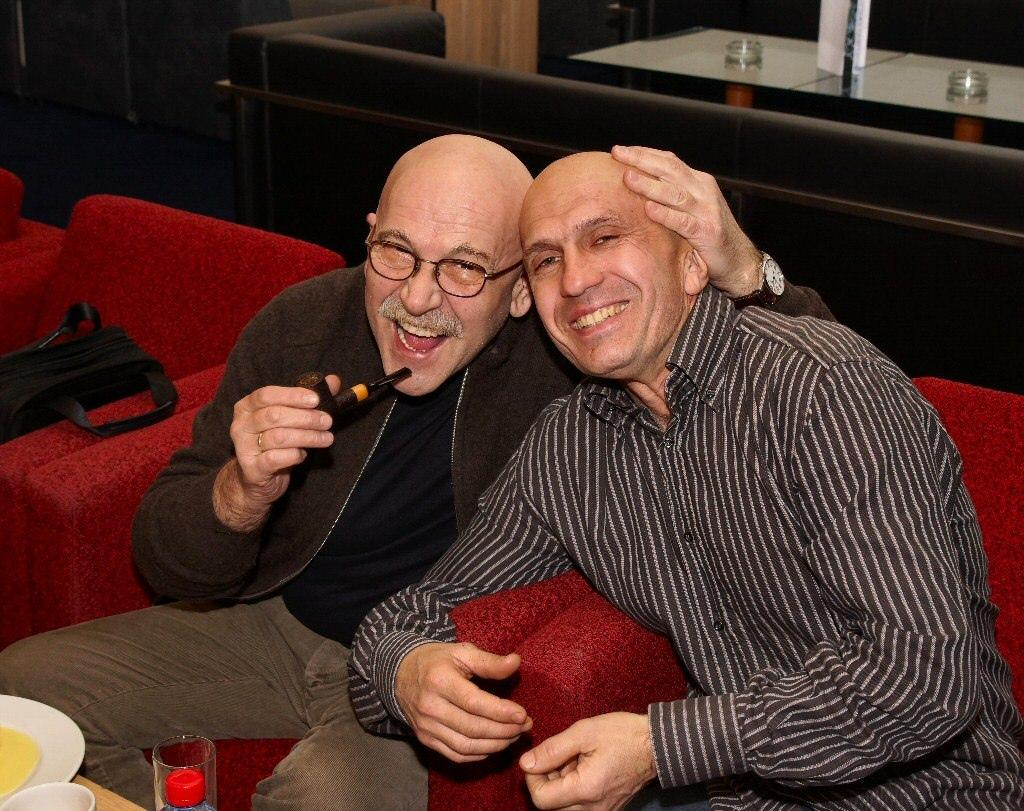trubka: (295, 367, 412, 414)
